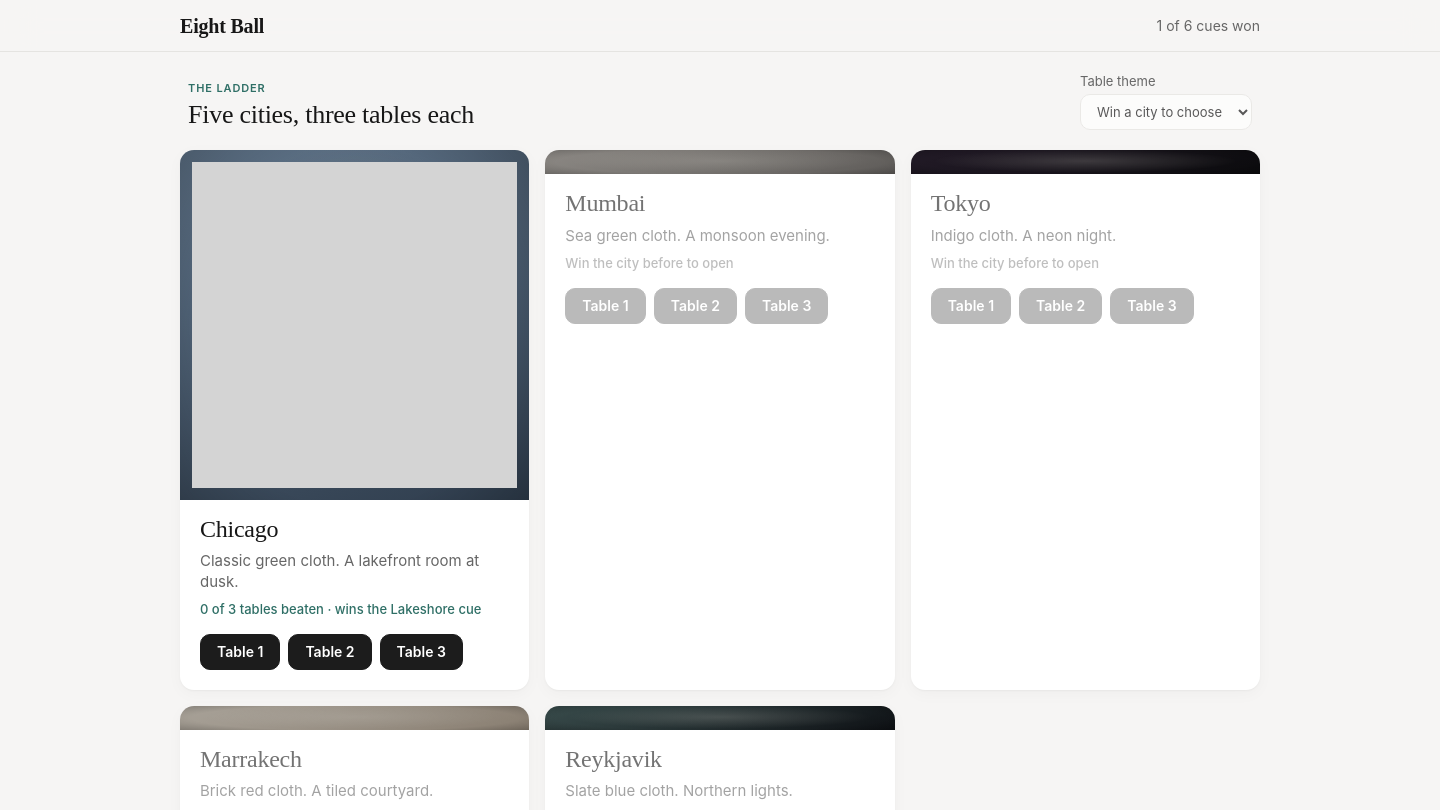
Test: a table › racks a game against that table's player and asks for the break
Click the button with aria-label "Chicago, table 1". click: x=240, y=652
box: [200,634,280,670]
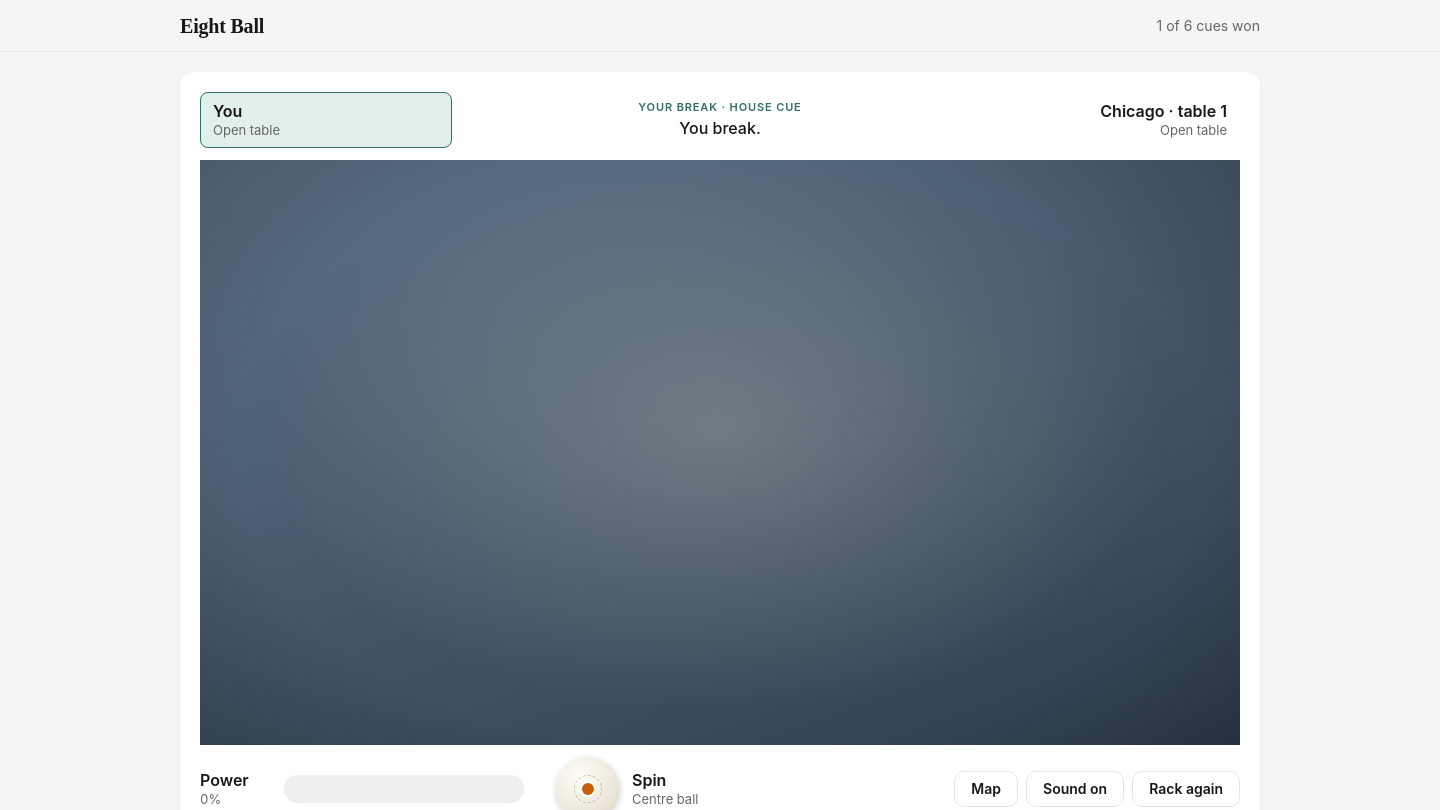
Expected: the text "Your break · House cue" is shown, [638,100,802,114]
Expected: the text "Chicago · table 1" is shown, [1100,101,1227,121]
